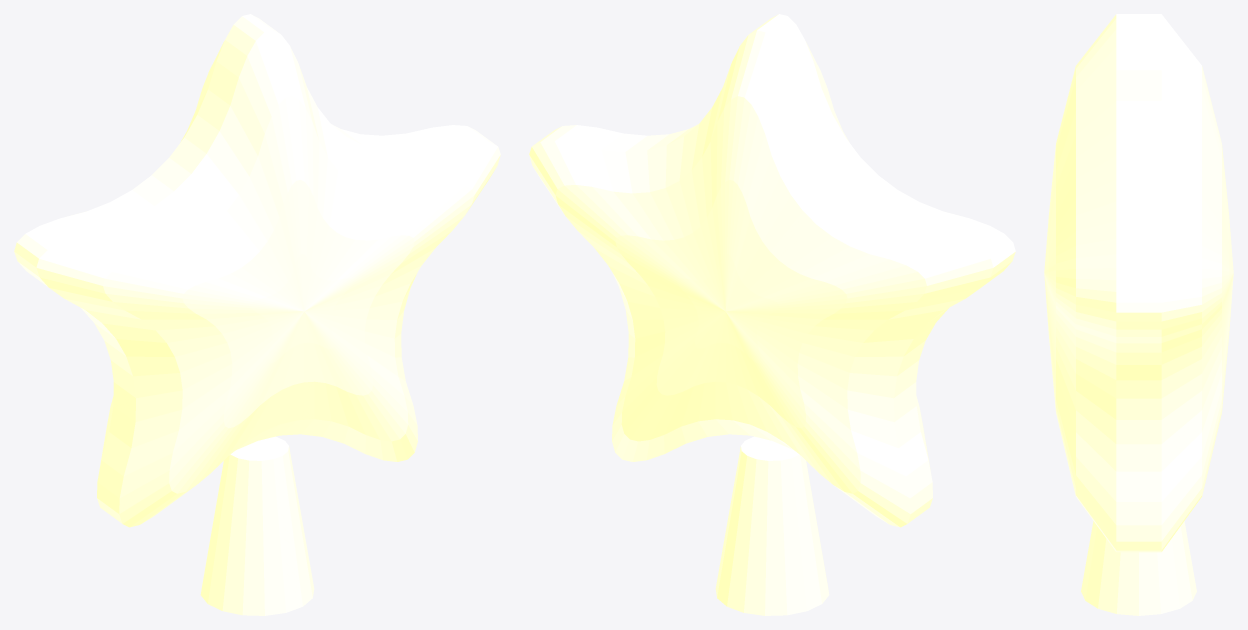
Rendered from Pieza_Estrella.glb.
The picture shows the model from 3 angles, left to right: view 1: azimuth 30°, elevation 25°; view 2: azimuth 150°, elevation 25°; view 3: azimuth 270°, elevation 25°; orthographic projection.
Parts seen in each view (by area): view 1: Pieza_Estrella; view 2: Pieza_Estrella; view 3: Pieza_Estrella.
Boxes of the visible parts, x1,y1,x2,y2 form: Pieza_Estrella: (14,14,500,615); Pieza_Estrella: (529,14,1015,615); Pieza_Estrella: (1044,14,1233,615).
Bounding box in the file's own units: 0.4315 × 0.505 × 0.1507.
